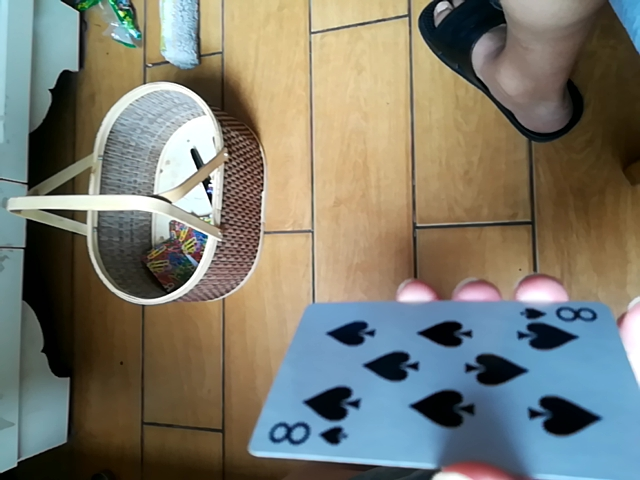ht 8: (247, 295, 633, 476)
